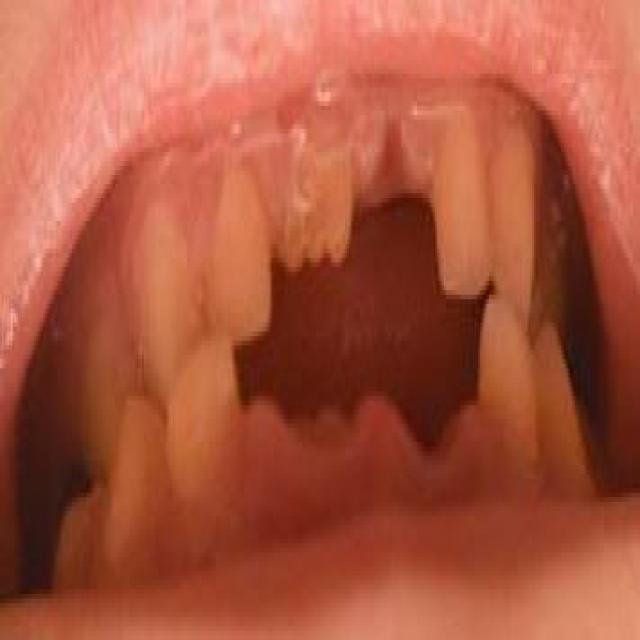caries: (271, 147, 349, 286)
